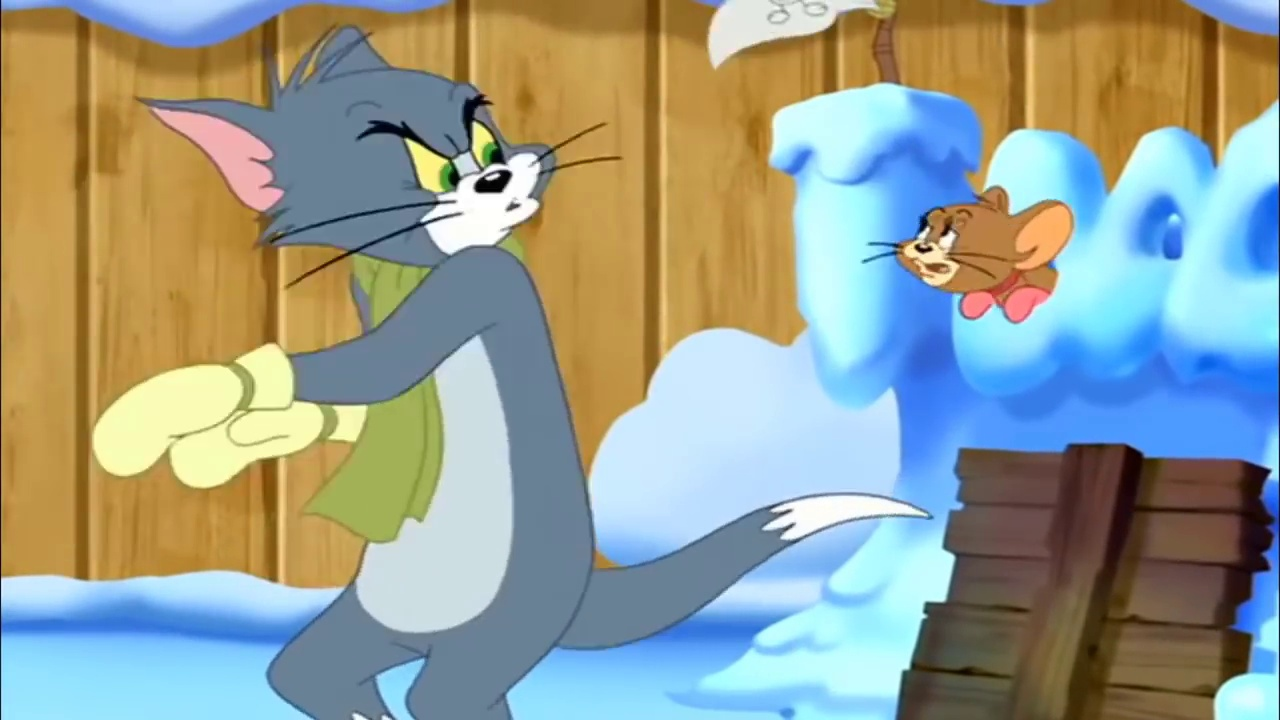face: (336, 81, 550, 256), (894, 203, 981, 292)
